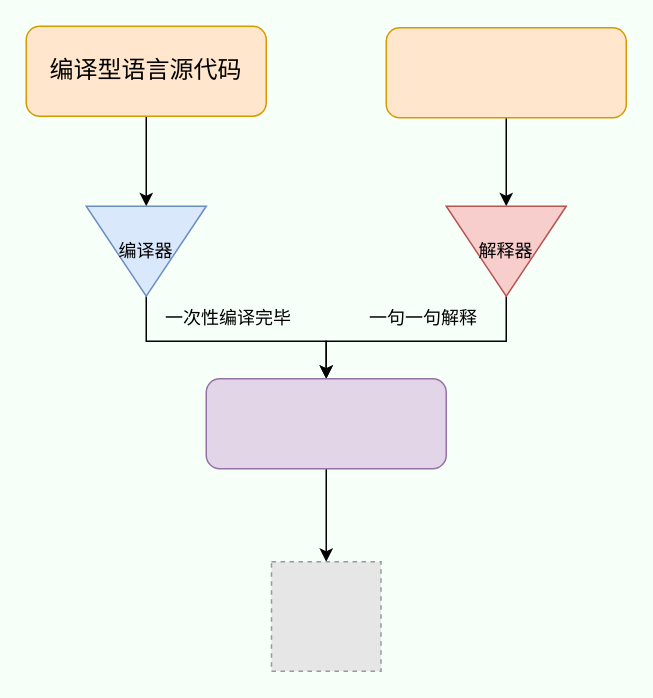
Image size: 653x698. Some labels were removed from this diagram. Grey dashed boxes stand in for pictures. Here are the shapes that lost their labels. From the top down, the centre of each, then its label:
the point at 505,72: 解释型语言源代码
the point at 325,423: 机器码
